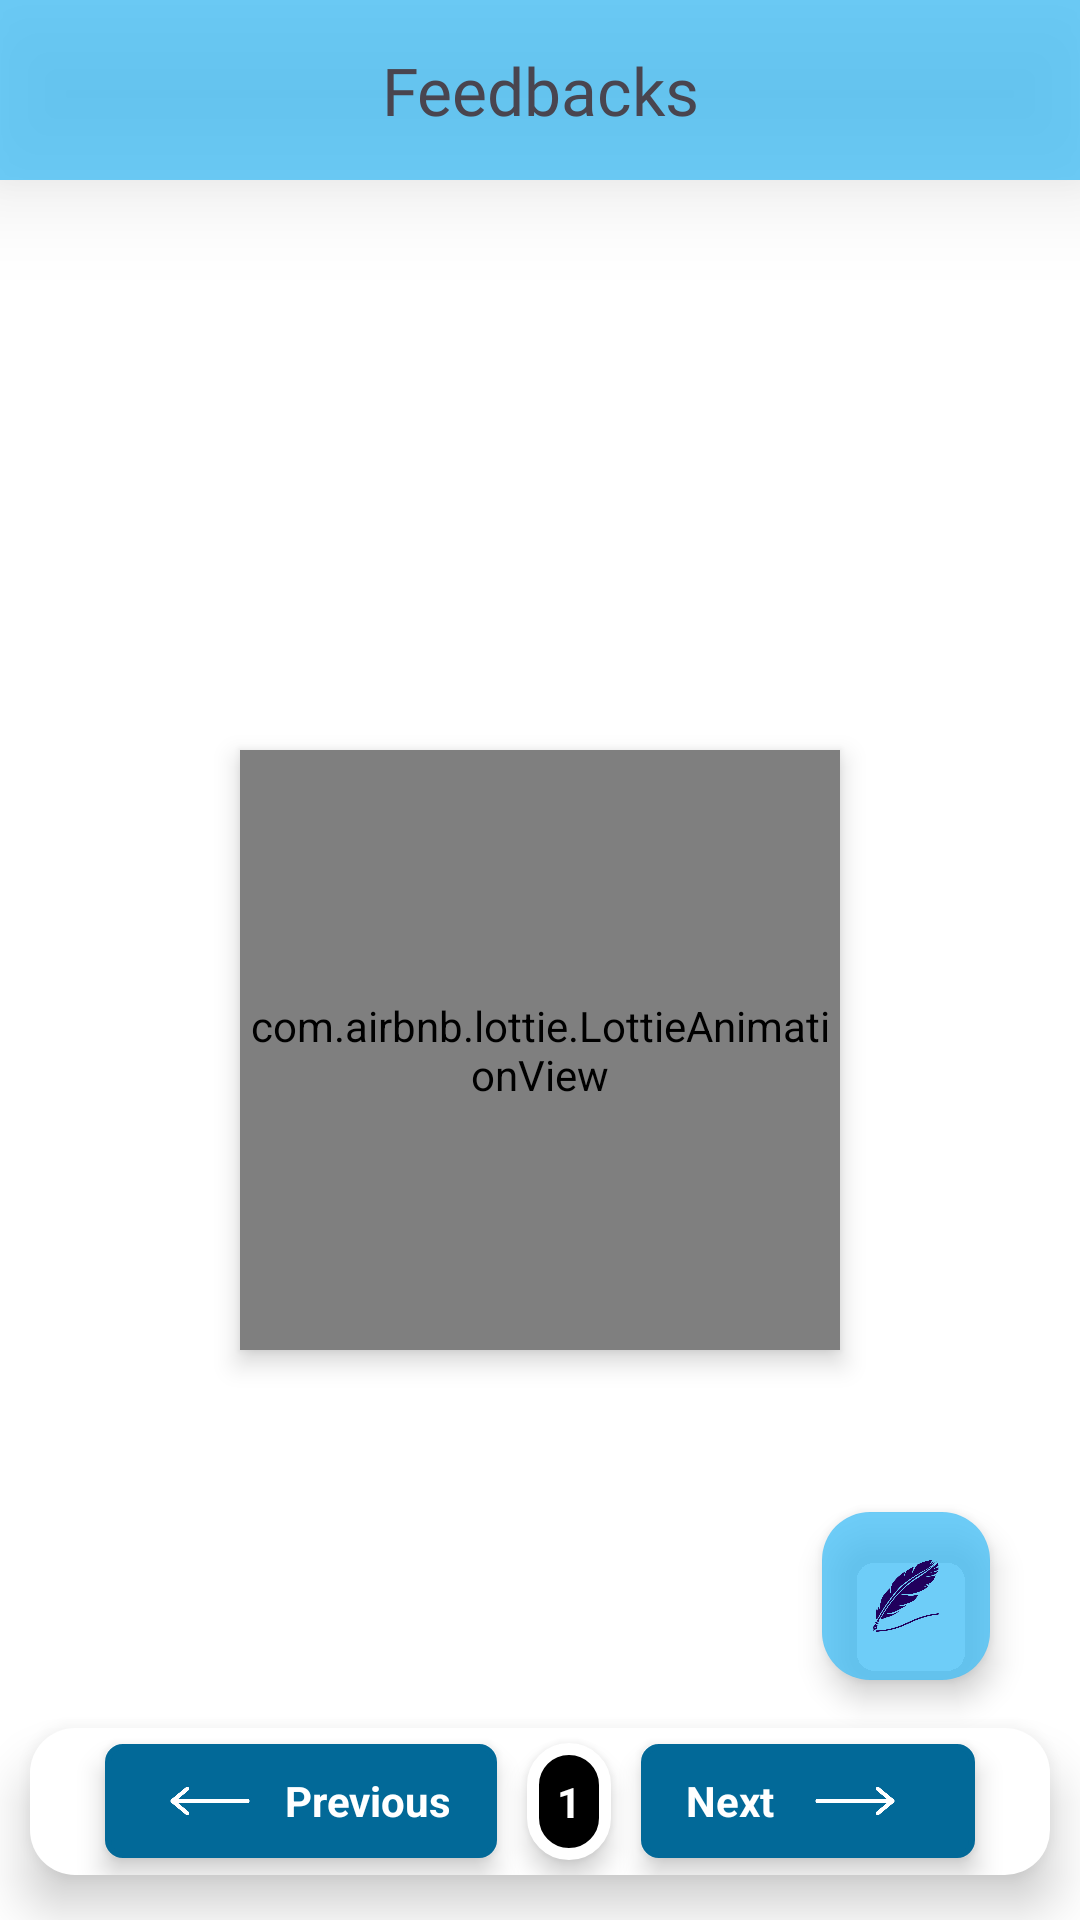

Point at icon controls on the screen. Image size 1080x1920, points as [x,y].
long arrow: [855,1801]
long left arrow: [210,1801]
pen: [906,1596]
